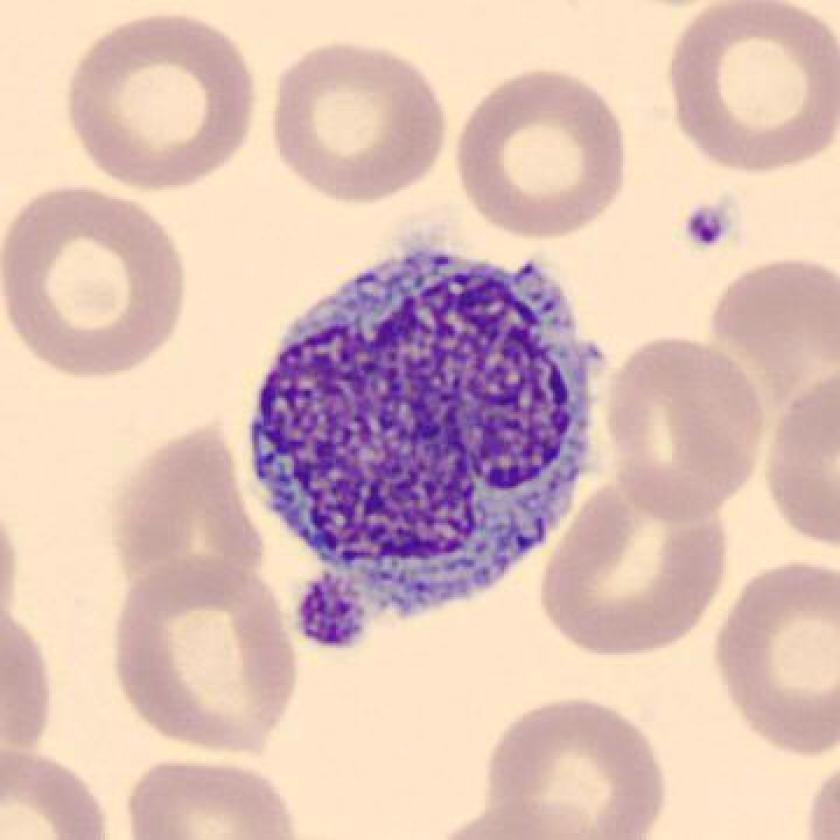monocyte: (225, 230, 631, 628)
